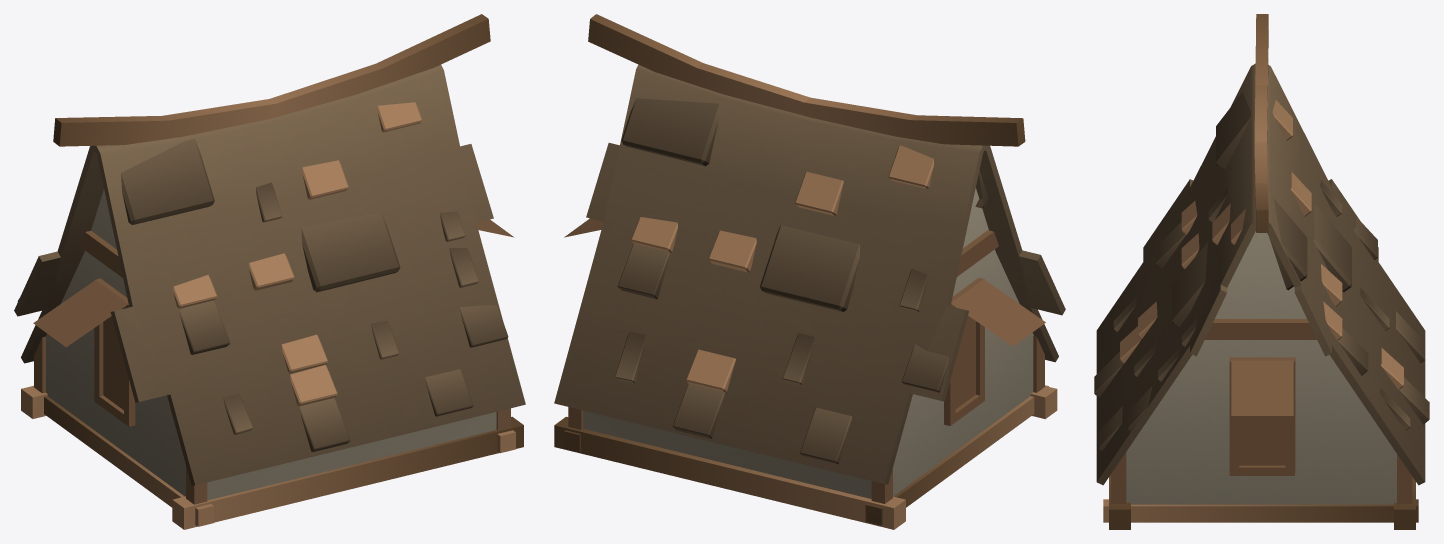
The model's file is ZLP_Build_A_15.FBX.
3 views of the same model, side by side, from view 1: azimuth 30°, elevation 25°; view 2: azimuth 150°, elevation 25°; view 3: azimuth 270°, elevation 25° (orthographic). The views are drawn at different scales.
Parts seen in each view (by area): view 1: ZLP_Build_A_15; view 2: ZLP_Build_A_15; view 3: ZLP_Build_A_15.
Boxes of the visible parts, x1,y1,x2,y2 form: ZLP_Build_A_15: (14, 14, 525, 529); ZLP_Build_A_15: (554, 14, 1065, 529); ZLP_Build_A_15: (1094, 14, 1429, 529).
Size of the model in its own units: 367 by 282 by 252.
